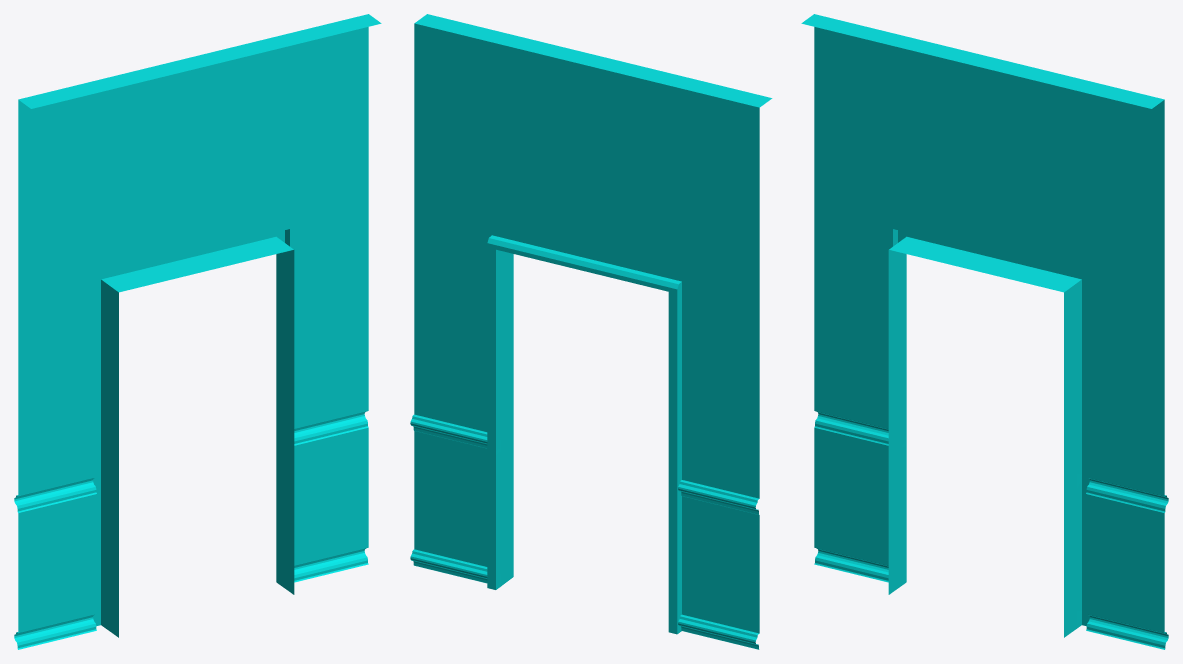
The model's file is ModDoorway.fbx.
3 views of the same model, side by side, from view 1: azimuth 30°, elevation 25°; view 2: azimuth 150°, elevation 25°; view 3: azimuth 330°, elevation 25° (orthographic).
Visible parts, largest first — view 1: ModDoorway; view 2: ModDoorway; view 3: ModDoorway.
Part boxes in pixels (box(x1,y1,x2,y2)): ModDoorway: box(14, 14, 381, 649); ModDoorway: box(410, 14, 772, 649); ModDoorway: box(801, 14, 1168, 649).
Bounding box in the file's own units: 240 × 360 × 21.12.
